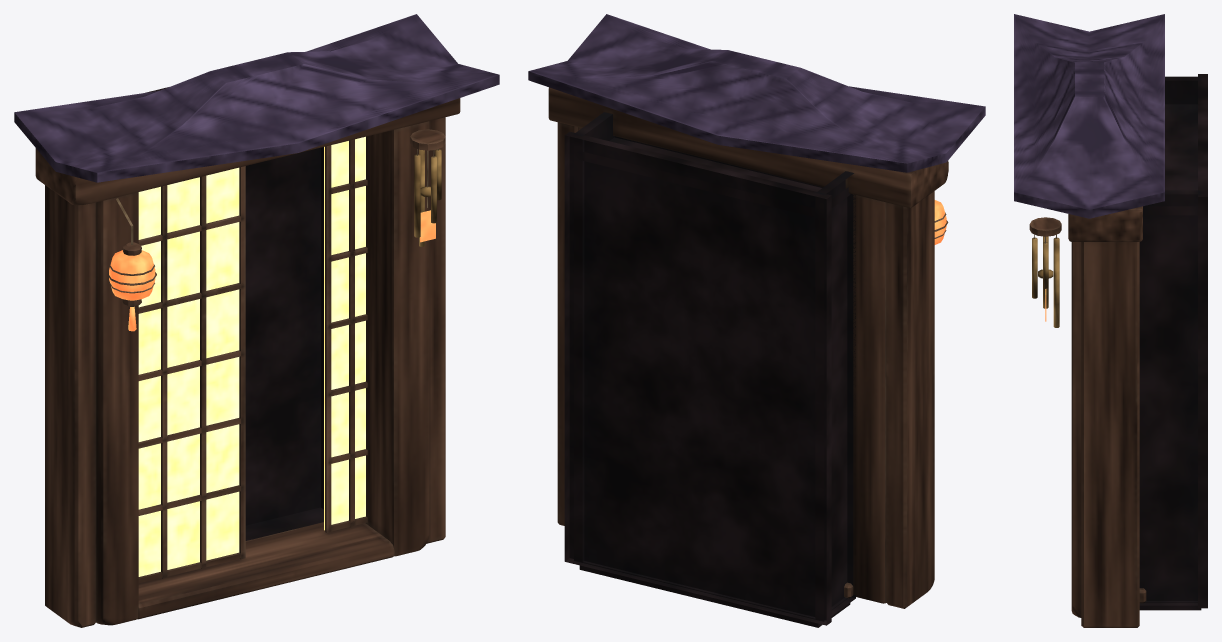
Rendered from StiltVillage_Door.fbx.
The picture shows the model from 3 angles, left to right: view 1: azimuth 30°, elevation 25°; view 2: azimuth 150°, elevation 25°; view 3: azimuth 270°, elevation 25°; orthographic projection. The views are drawn at different scales.
Visible parts, largest first — view 1: StiltVillage_Door; view 2: StiltVillage_Door; view 3: StiltVillage_Door.
Boxes of the visible parts, x1,y1,x2,y2 form: StiltVillage_Door: (14,14,499,627); StiltVillage_Door: (528,14,985,627); StiltVillage_Door: (1014,14,1207,627).
Size of the model in its own units: 2.6 by 3.23 by 1.19.
